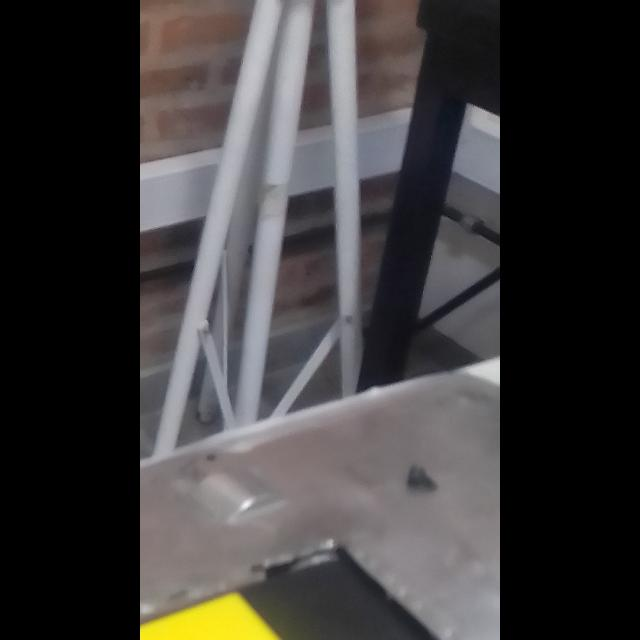yellowBox: (140, 582, 320, 640)
